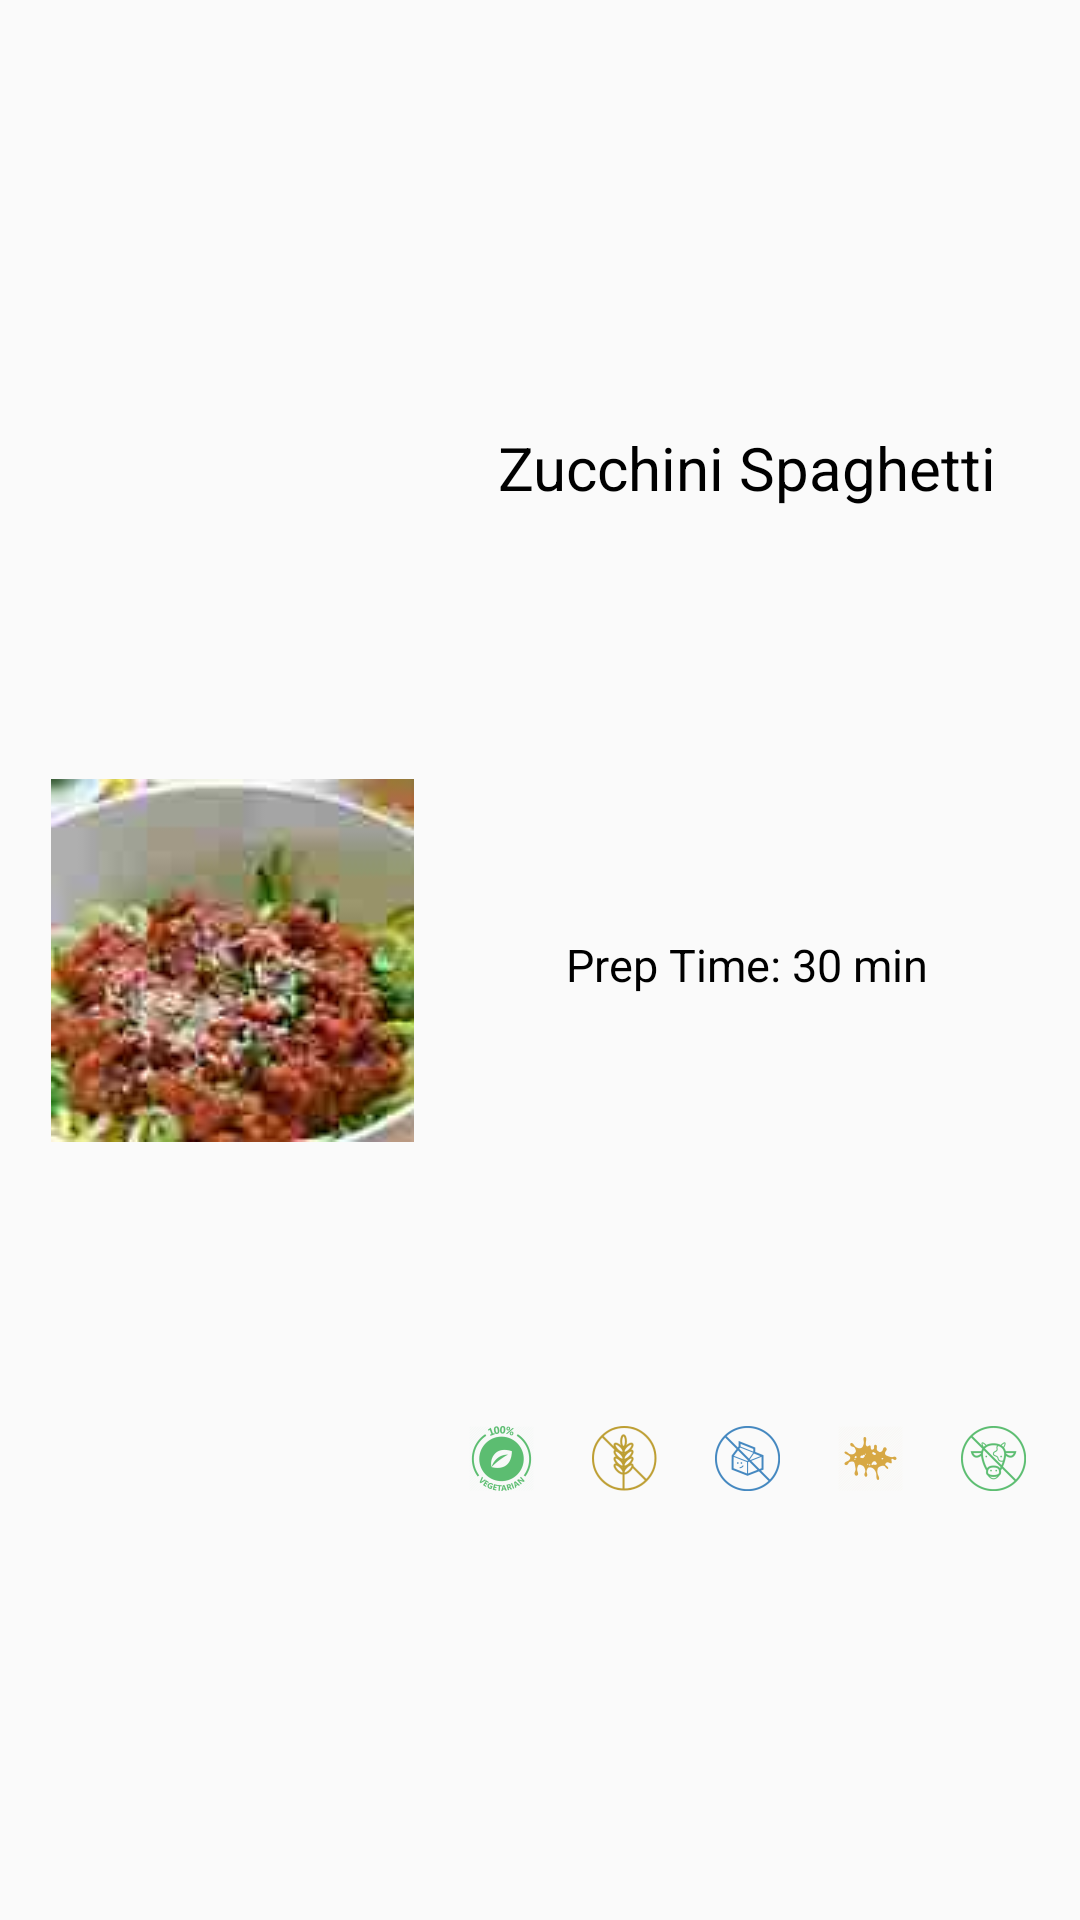

Named icons in this screenshot (1080px×1920px) and their bounding boxes, BBox(x1, y1, x2, y2):
dairy free: BBox(715, 1426, 780, 1491)
gluten free: BBox(592, 1426, 657, 1491)
vegan: BBox(961, 1426, 1026, 1491)
